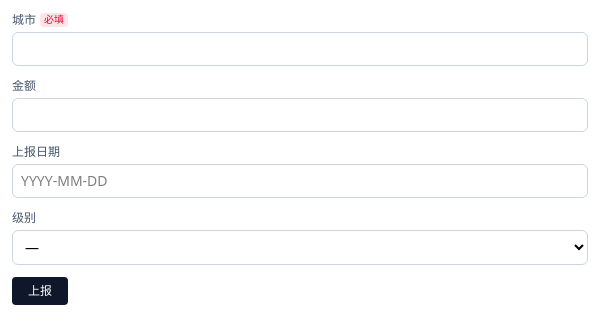
Test: FormRuntime（console 态：corrections 提交） › 提交成功：op=insert + 归一后整行 values + 登录 Bearer；successMessage 呈现并清空重填
The image size is (605, 322).
Type " 上海 " into the field with test id "form-field-input" showing "城市 必填" at (300, 49), box 12,32 -> 588,66
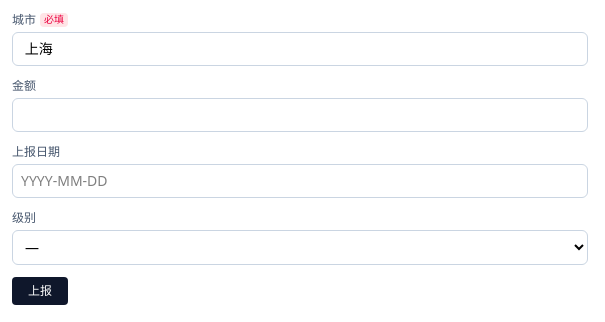
Type "12.5" into the field with test id "form-field-input" showing "金额" at (300, 115), box 12,98 -> 588,132
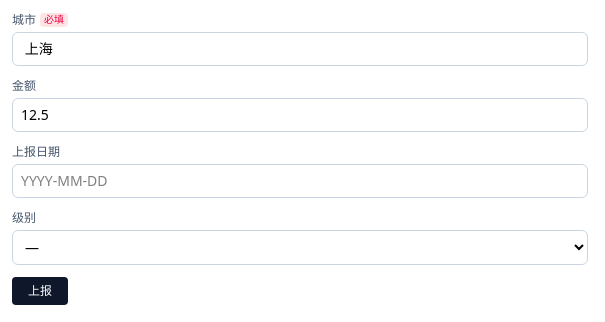
Type "2026-10-12" into the field with test id "form-field-input" showing "上报日期" at (300, 181), box 12,164 -> 588,198
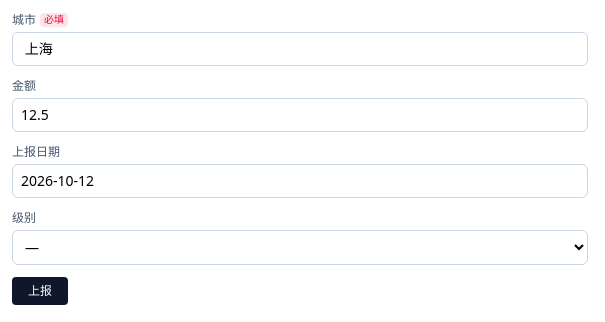
Select "高" in the dropdown with test id "form-field-input" showing "级别" at (300, 248), box 12,230 -> 588,265
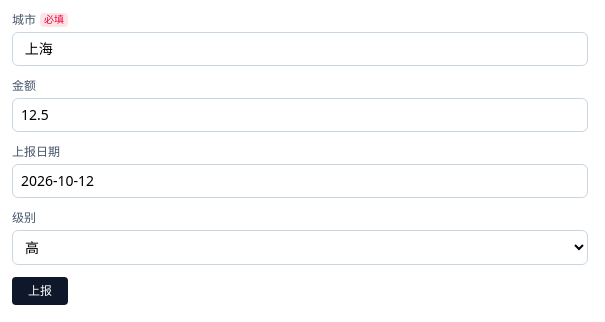
Click the button with test id "form-submit" at (40, 291), box 12,277 -> 68,305
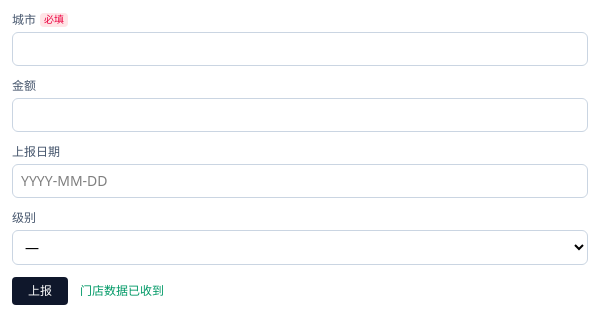
Expected: the text with test id "form-success" reads "门店数据已收到", 80,282 -> 164,299
Expected: the field with test id "form-field-input" is empty, 12,32 -> 588,66
